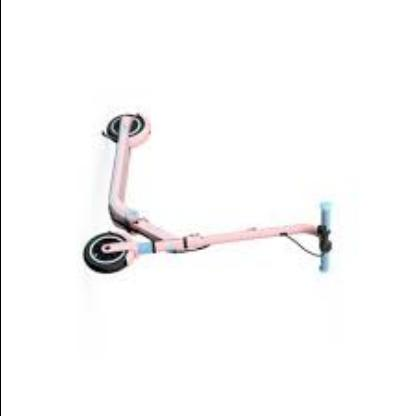bike: (84, 112, 335, 275)
